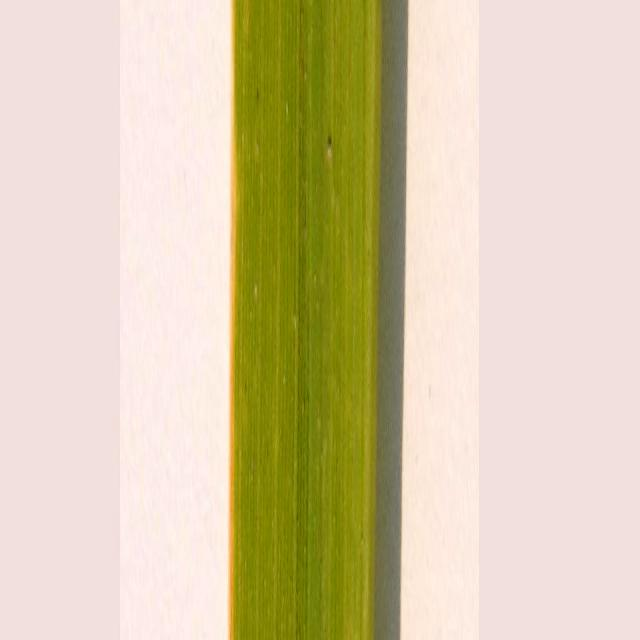BLS: (228, 0, 239, 640)
